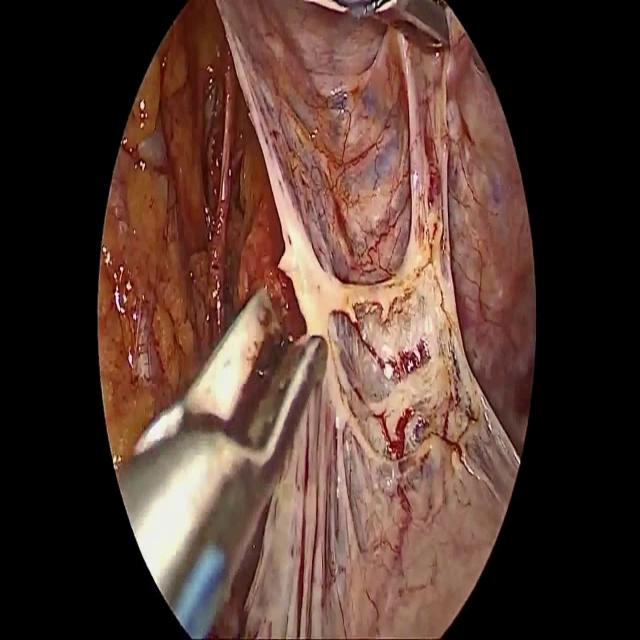surgical-area: (97, 0, 536, 639)
surgical-tool: (116, 283, 329, 639)
